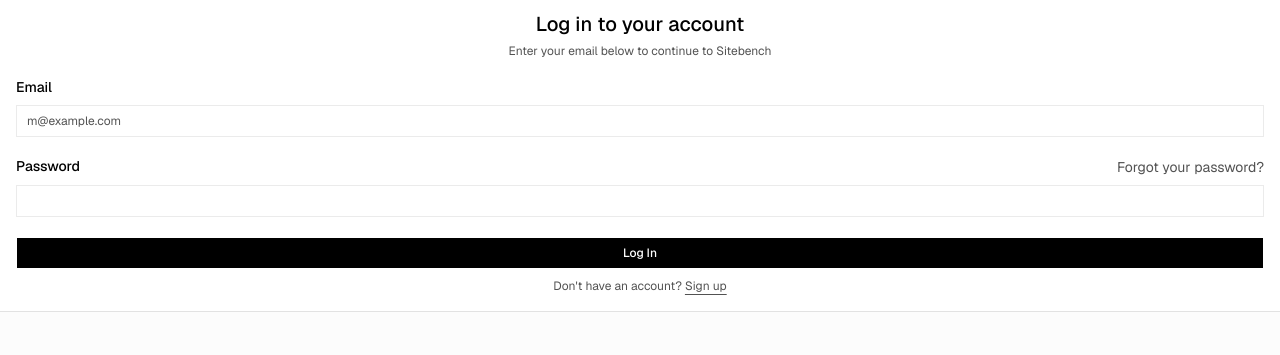
it: LoginForm › blocks empty password and shows a field error
The width and height of the screenshot is (1280, 355).
In the field labelled "Email": (640, 121) [16,105,1264,137], type "jane@example.com"
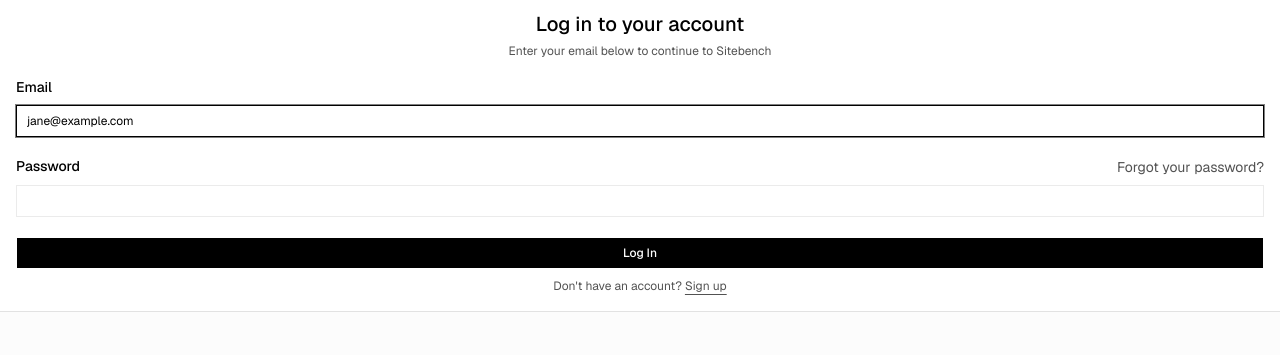
Click the button "Log In": (640, 253) [16,237,1264,269]
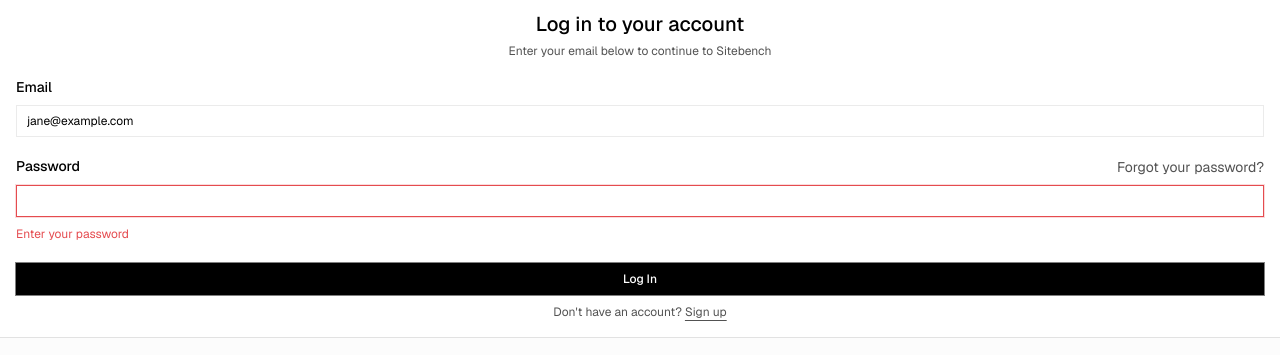
Expected: the text "Enter your password" is shown, [16,226,129,242]
